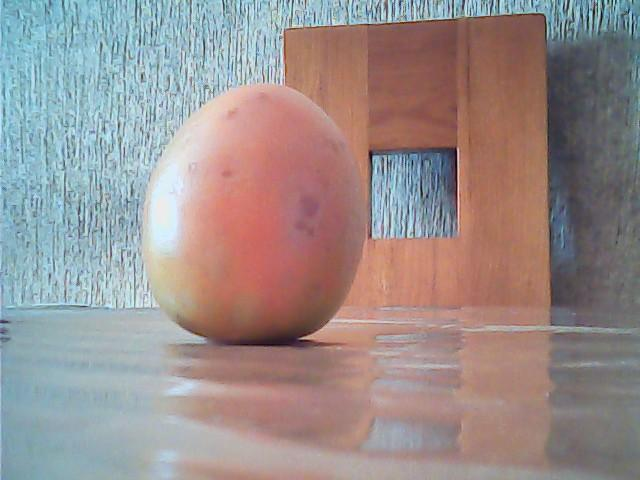verde: (140, 82, 367, 348)
